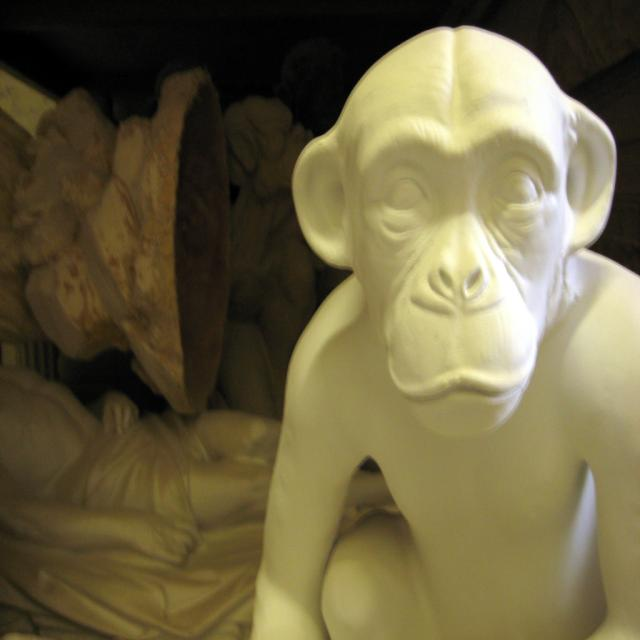Monkey: (250, 24, 640, 639)
